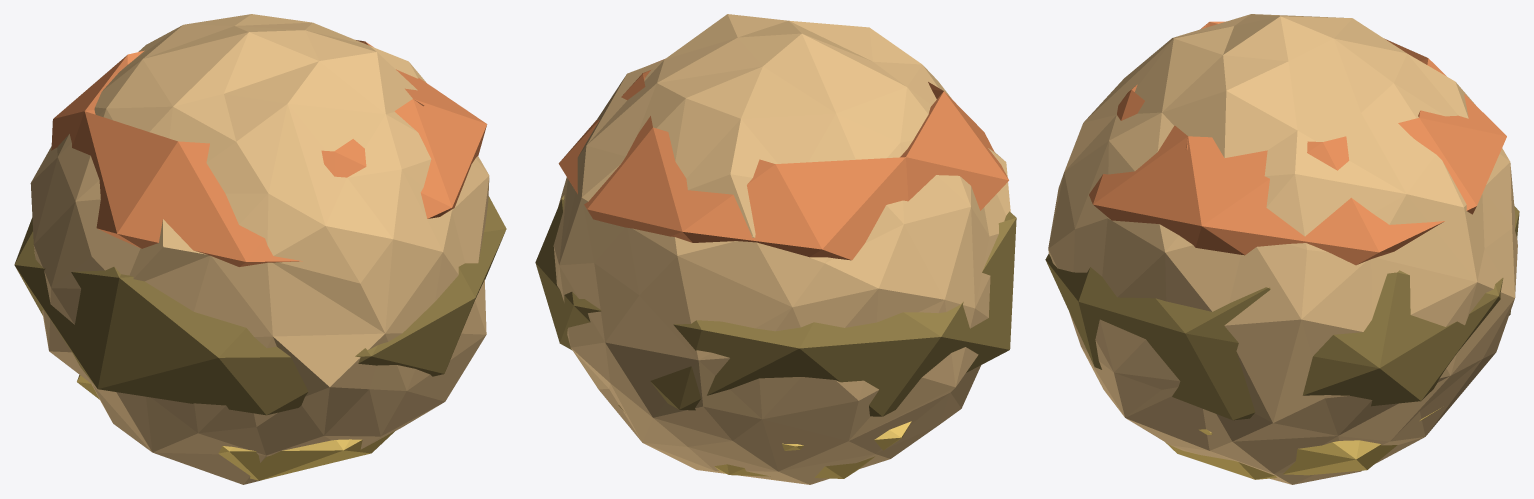
The model's file is ore_planet.fbx.
3 renders of one model, left to right at view 1: azimuth 30°, elevation 25°; view 2: azimuth 150°, elevation 25°; view 3: azimuth 270°, elevation 25°, orthographic.
Parts seen in each view (by area): view 1: ore_planet; view 2: ore_planet; view 3: ore_planet.
Boxes of the visible parts, box(x1,y1,x2,y2) form: ore_planet: box(14, 14, 506, 484); ore_planet: box(535, 14, 1016, 484); ore_planet: box(1045, 14, 1519, 484).
Bounding box in the file's own units: 194 × 193 × 193.
